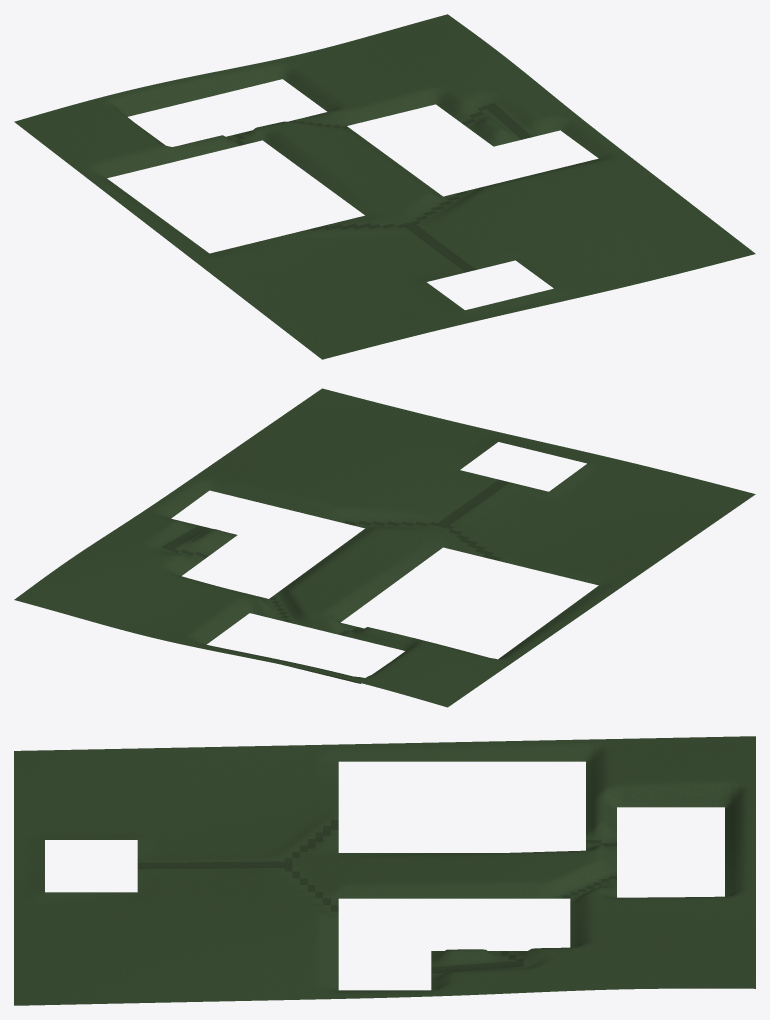
File: level_site_college_terrain.glb
3 views of the same model, one above another, from view 1: azimuth 30°, elevation 25°; view 2: azimuth 150°, elevation 25°; view 3: azimuth 270°, elevation 25° (orthographic). The views are drawn at different scales.
Parts seen in each view (by area): view 1: level_site_college_terrain; view 2: level_site_college_terrain; view 3: level_site_college_terrain.
Part boxes in pixels (bbox=[...]): level_site_college_terrain: bbox=[14, 14, 755, 359]; level_site_college_terrain: bbox=[14, 388, 755, 707]; level_site_college_terrain: bbox=[14, 736, 755, 1005].
Bounding box in the file's own units: 78 × 2.9 × 96.
2 materials, 2 textured.
